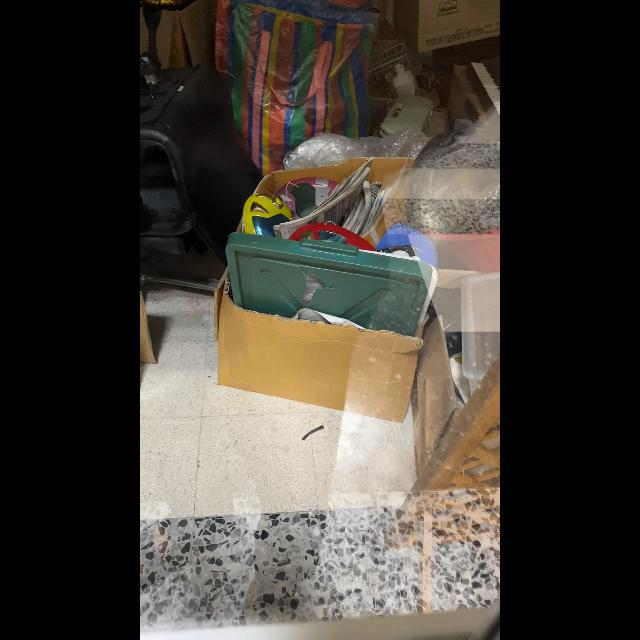cardboard_box: (205, 152, 440, 424), (372, 1, 500, 54)
